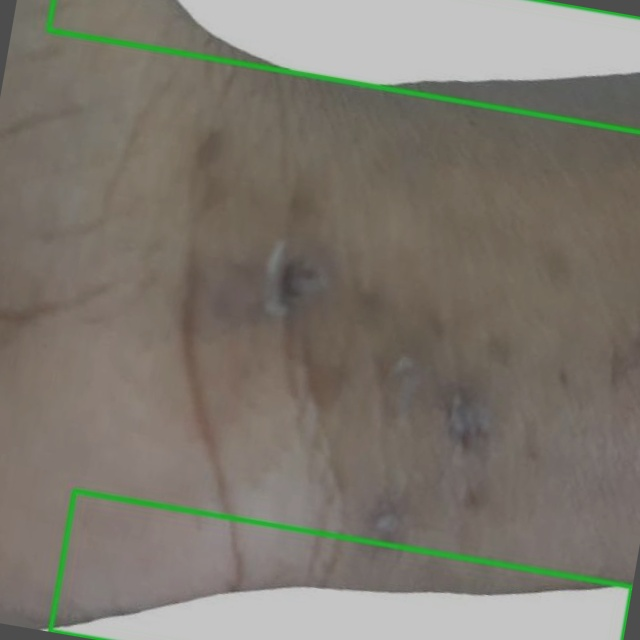Scabies: (50, 491, 631, 639), (48, 0, 639, 132)
